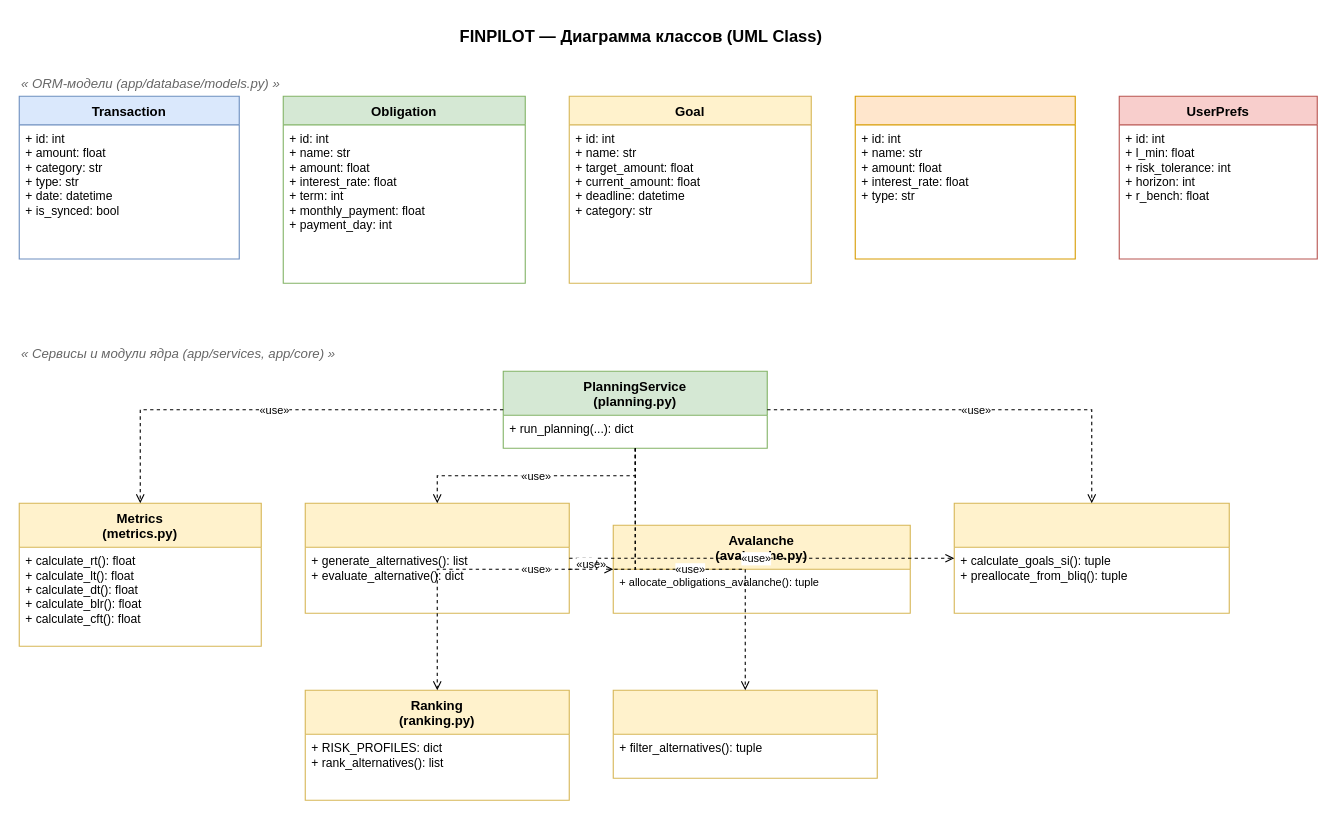
Some shapes in this 1337 by 822 pixel diagram are drawn without their labels. The box of each missing label's shape, as (x1, y1, x2, y2) in pixels:
Alternatives (alternatives.py): (304, 502, 569, 613)
Filtering (filtering.py): (612, 689, 877, 778)
GoalsPriority (goals_priority.py): (953, 502, 1229, 613)
LiquidAsset: (854, 95, 1075, 259)
